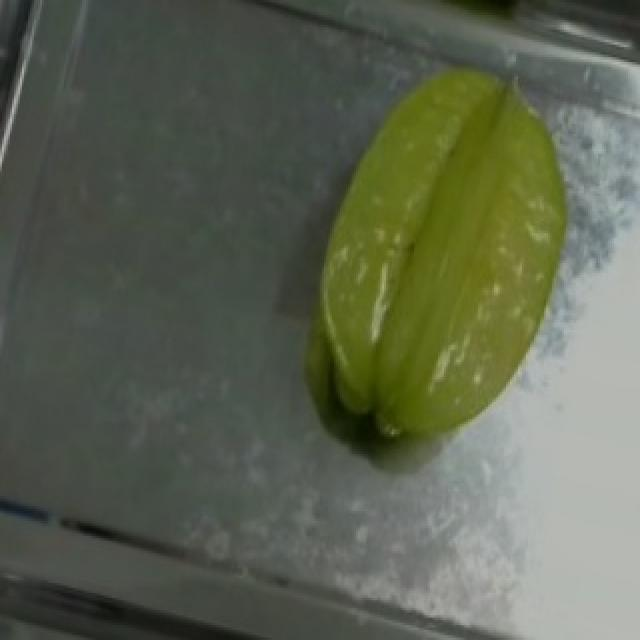fruit: (286, 37, 626, 427)
